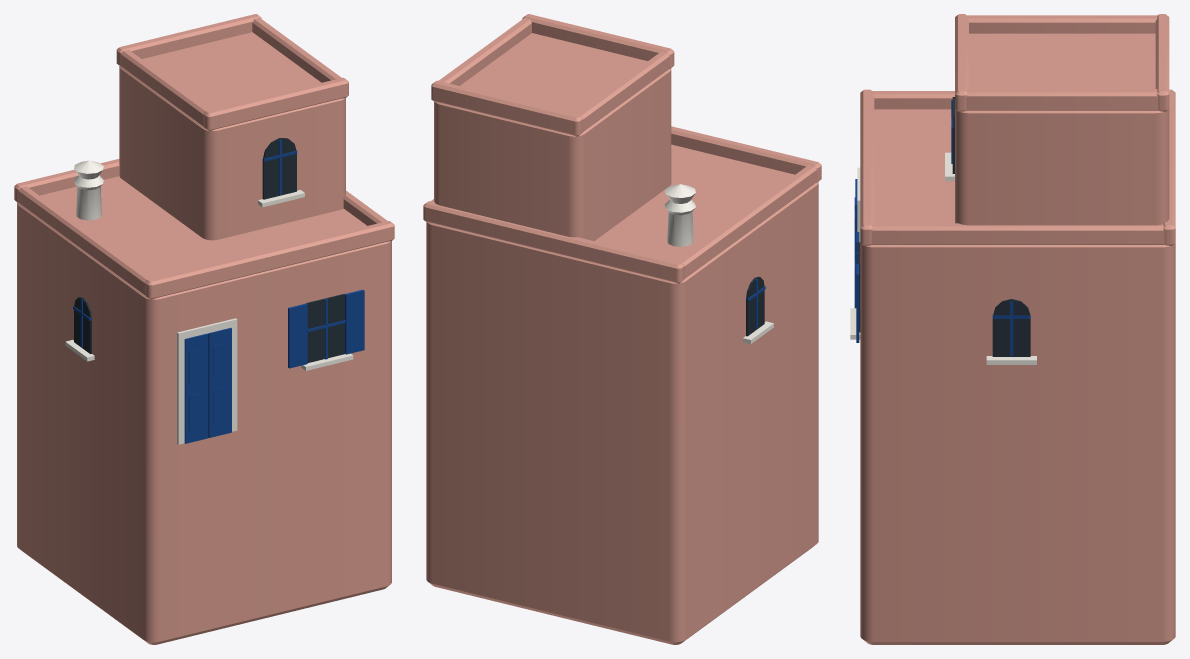
Rendered from cube-pink.glb.
The picture shows the model from 3 angles, left to right: view 1: azimuth 30°, elevation 25°; view 2: azimuth 150°, elevation 25°; view 3: azimuth 270°, elevation 25°; orthographic projection. The views are drawn at different scales.
Parts seen in each view (by area): view 1: wall0, wall5, wall1, wall6, wall3, wall7, pane18, white10, wall8, deep11, pane25, deep14 (+9 smaller); view 2: wall0, wall5, wall2, wall7, wall3, wall1, wall6, wall8, wall9, white30, pane31; view 3: wall0, wall5, wall4, wall9, wall8, wall1, pane37, wall3, wall7, wall6, wall2.
Boxes of the visible parts, <box> form: wall0: <box>17,176,391,644</box>; wall5: <box>119,32,345,240</box>; wall1: <box>145,221,394,299</box>; wall6: <box>203,77,348,130</box>; wall3: <box>18,186,151,294</box>; wall7: <box>116,14,261,66</box>; pane18: <box>306,294,344,362</box>; white10: <box>177,318,237,444</box>; wall8: <box>120,49,210,126</box>; deep11: <box>184,333,208,443</box>; pane25: <box>262,138,296,199</box>; deep14: <box>208,328,231,437</box>; wall0: <box>426,144,818,644</box>; wall5: <box>434,33,671,240</box>; wall2: <box>423,201,684,283</box>; wall7: <box>431,80,582,136</box>; wall3: <box>677,165,817,278</box>; wall1: <box>671,126,821,182</box>; wall6: <box>522,14,674,68</box>; wall8: <box>576,51,670,131</box>; wall9: <box>438,18,531,85</box>; white30: <box>664,184,695,246</box>; pane31: <box>746,276,764,336</box>; wall0: <box>860,109,1175,644</box>; wall5: <box>955,33,1169,225</box>; wall4: <box>871,223,1164,244</box>; wall9: <box>966,89,1158,110</box>; wall8: <box>967,15,1157,33</box>; wall1: <box>860,89,874,245</box>; pane37: <box>992,299,1030,356</box>; wall3: <box>872,91,954,109</box>; wall7: <box>1155,14,1169,111</box>; wall6: <box>955,14,968,111</box>; wall2: <box>1163,89,1175,245</box>.
Size of the model in its own units: 5.52 by 9.66 by 5.16.
